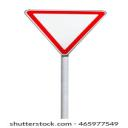preferencia: (20, 8, 112, 57)
